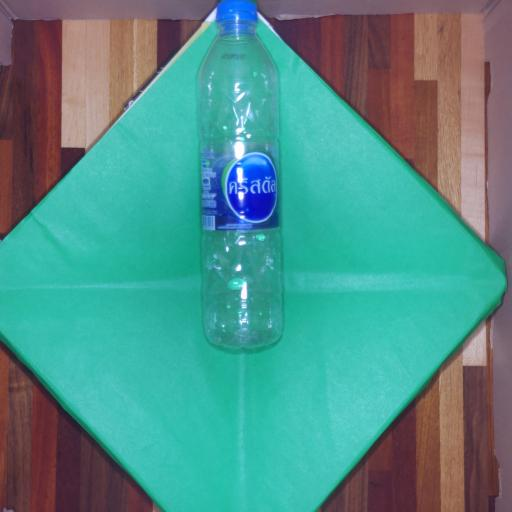bottle: (180, 0, 302, 367)
